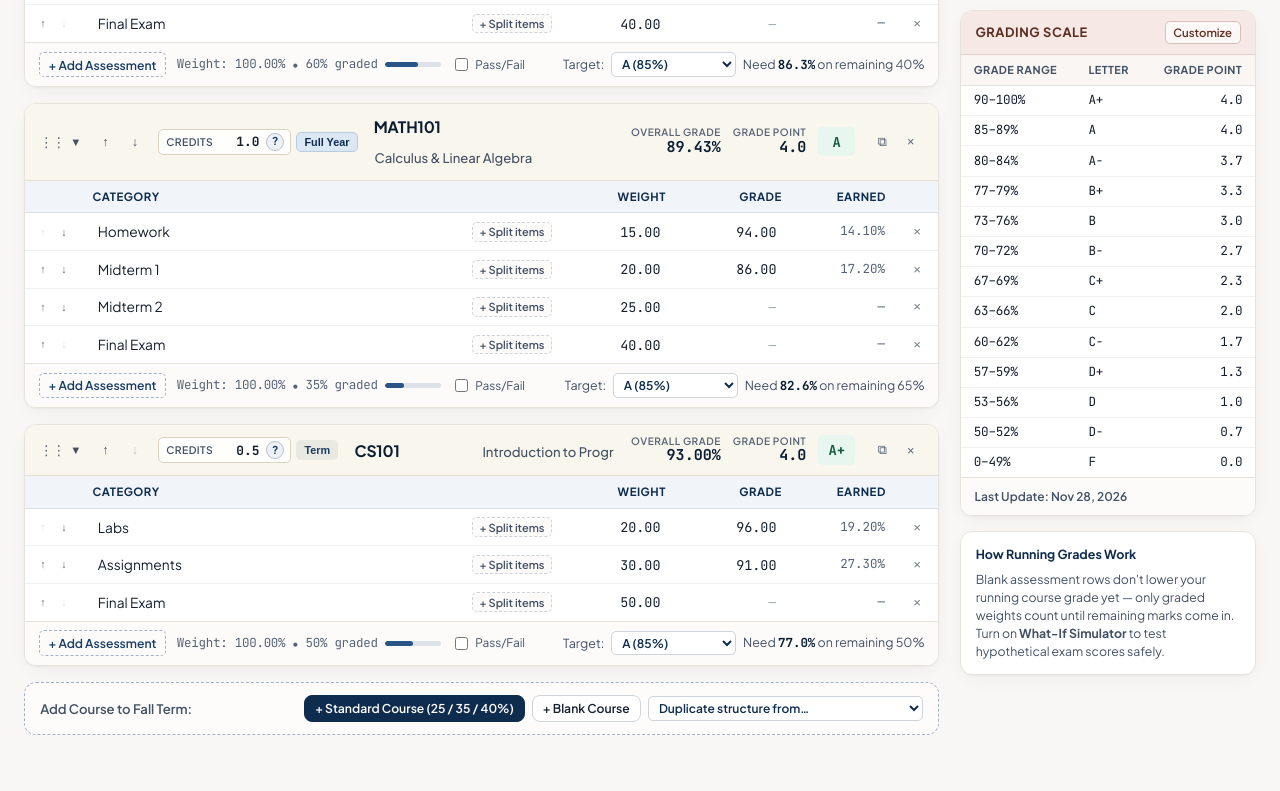
Scenario: Grade Tracker React Application (M1 + M1.1 + Firebase Cloud Sync) › supports adding standard, blank, and duplicated course structures (M1.1)
(page scrolled)
Click the button "+ Blank Course": x=586, y=709 [532, 695, 641, 722]
(page scrolled)
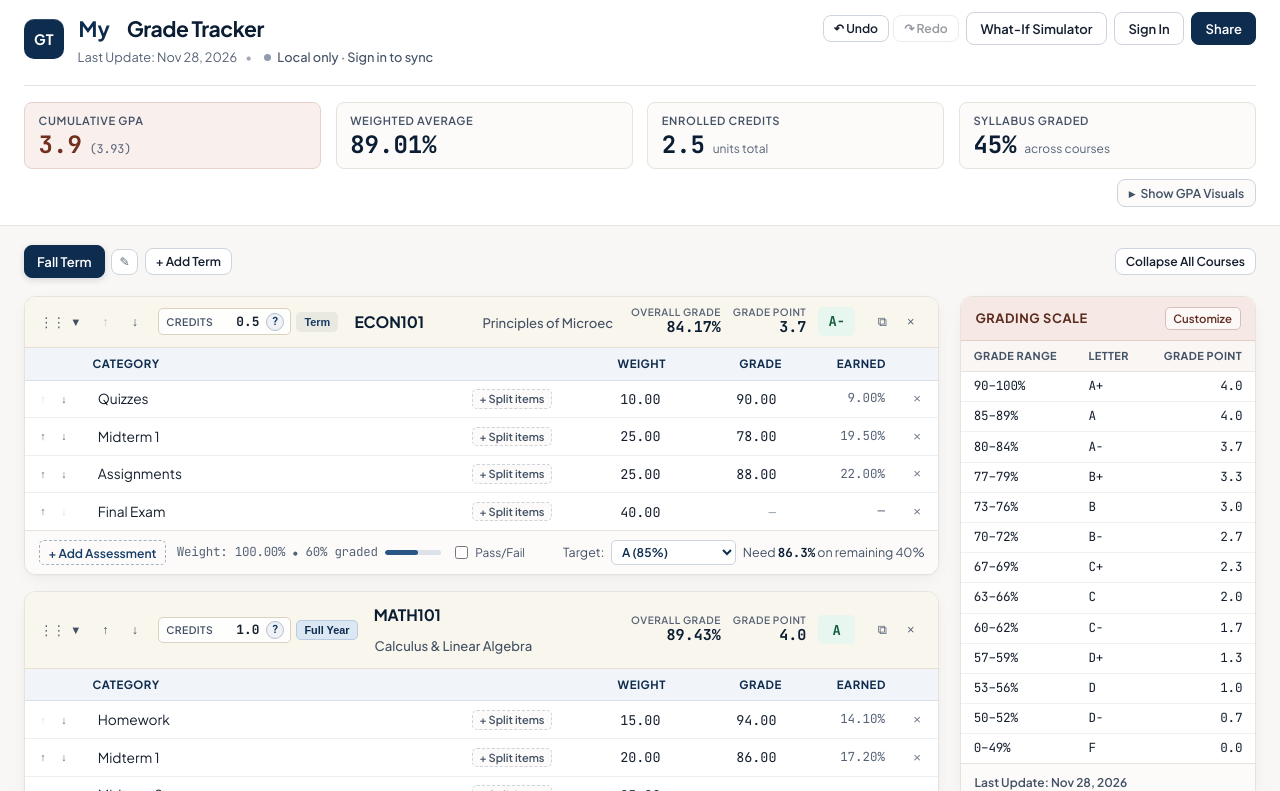
Result: the number of elements named "Course " is 4
Click the button named "Duplicate ": x=882, y=322 [869, 309, 895, 335]
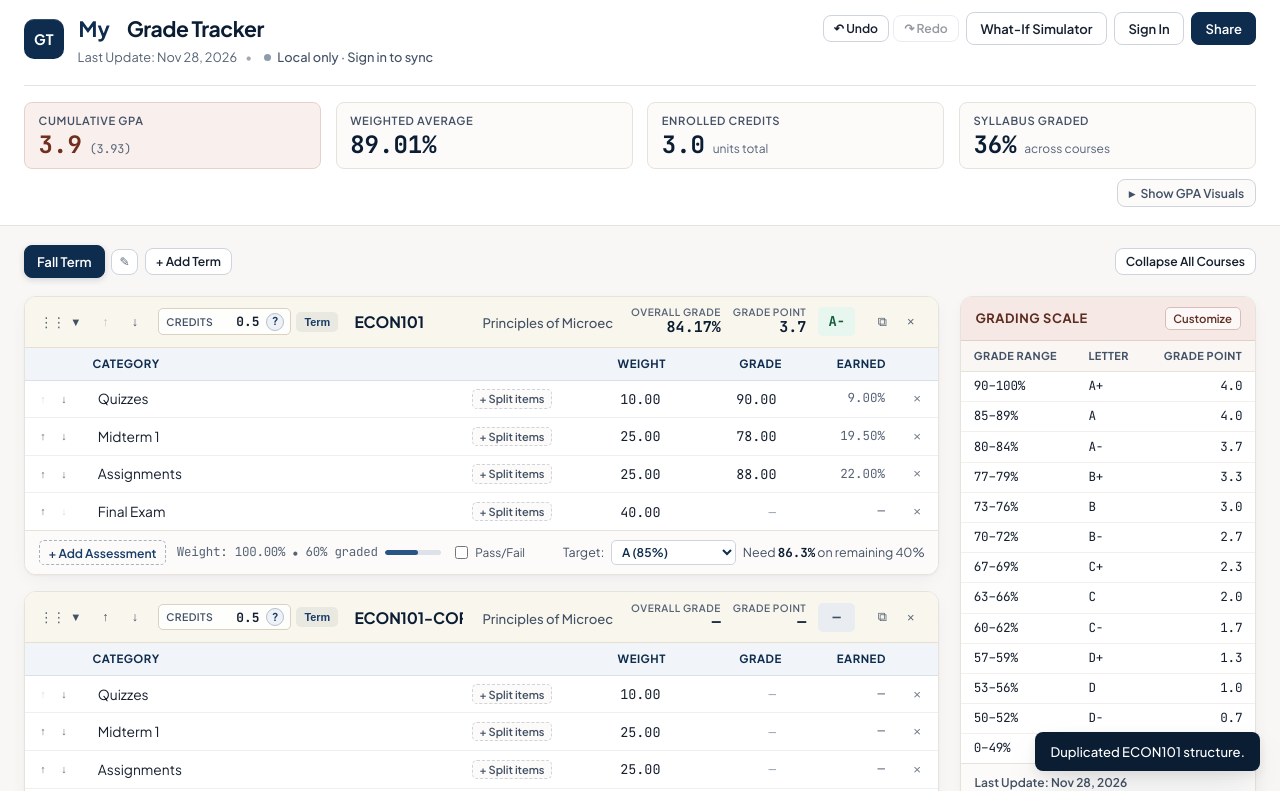
Result: the number of elements named "Course " is 5
